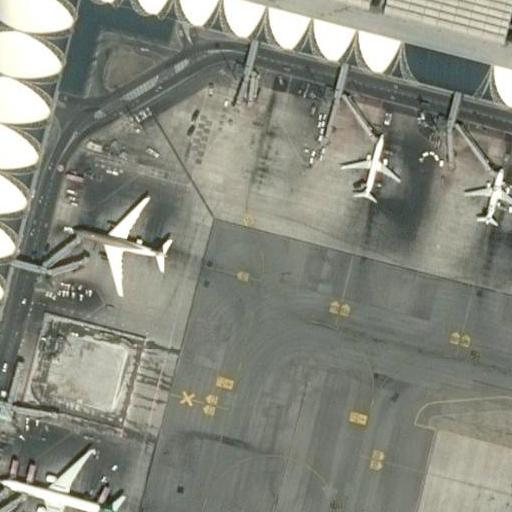Aircraft: (68, 191, 170, 294), (0, 439, 122, 512), (337, 128, 399, 203), (465, 164, 512, 227)
